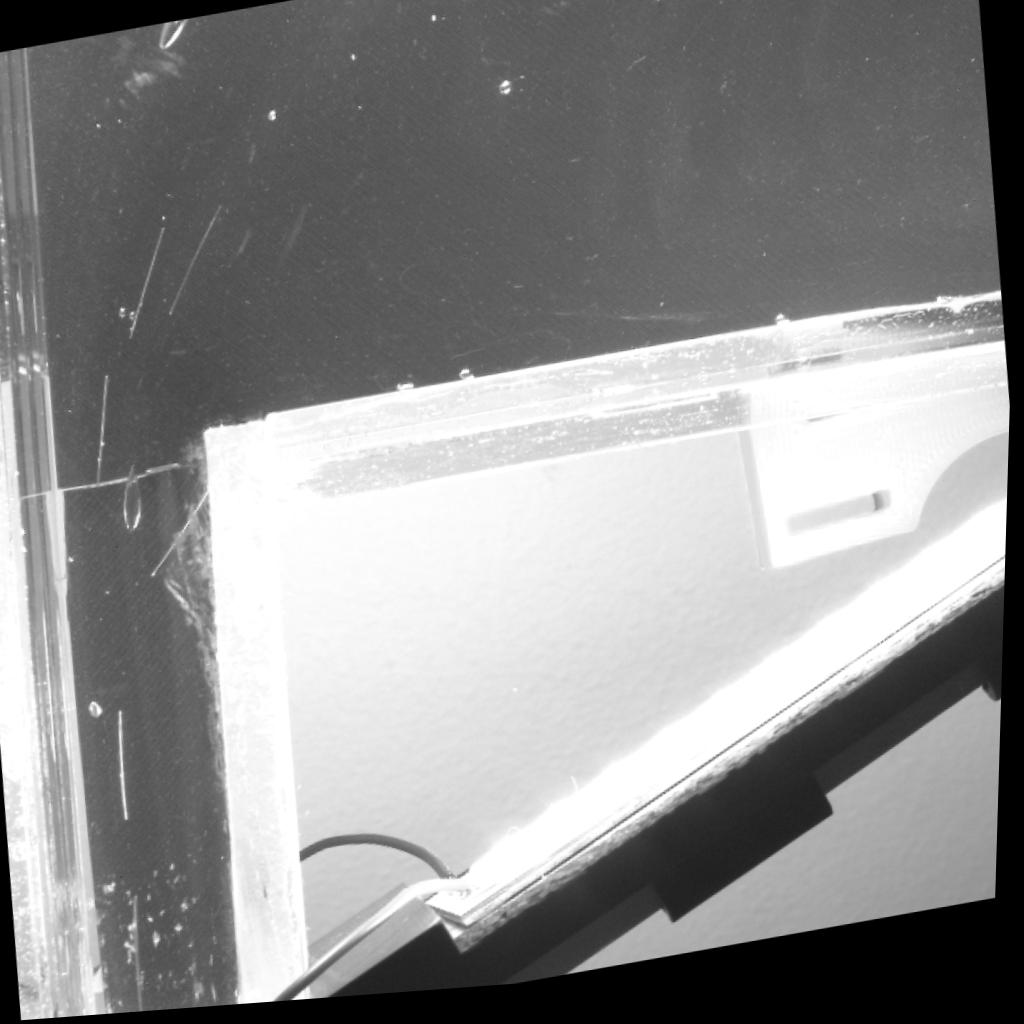Fiber: (152, 480, 215, 583), (169, 204, 225, 318), (127, 232, 167, 341), (129, 897, 154, 1015), (118, 712, 136, 823), (98, 379, 111, 486)
